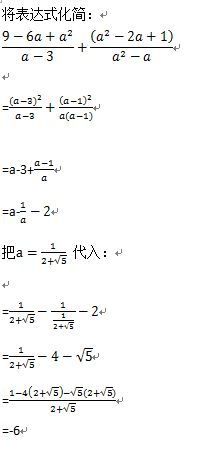division: (10, 396, 122, 405), (90, 45, 175, 52), (1, 44, 74, 50), (59, 105, 100, 111), (12, 309, 36, 316), (49, 309, 77, 315), (42, 249, 69, 255), (10, 105, 40, 110), (33, 167, 53, 173), (10, 354, 35, 358), (20, 208, 25, 214)
sqrt: (104, 382, 120, 400), (56, 251, 72, 267), (78, 348, 92, 366), (73, 382, 85, 397), (24, 314, 36, 325), (50, 385, 59, 399), (65, 401, 76, 410), (27, 358, 35, 370), (66, 320, 73, 329)
square: (84, 93, 93, 102), (102, 28, 110, 36), (37, 93, 45, 100), (67, 29, 73, 35)
